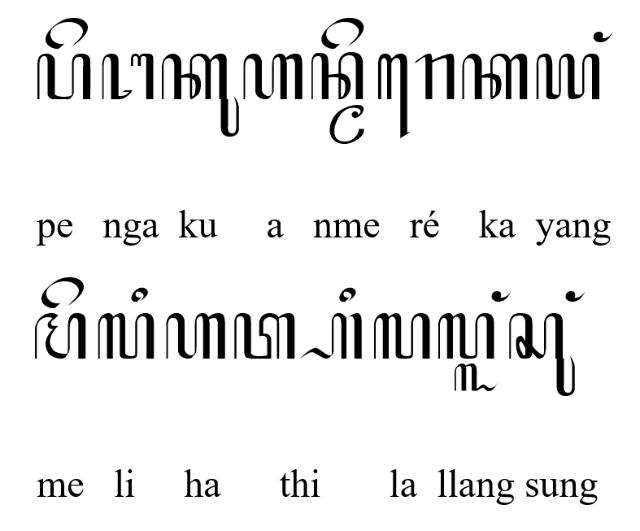_h: (301, 313, 364, 359)
_l: (454, 362, 498, 392)
_m: (328, 103, 364, 144)
e: (38, 276, 86, 310), (45, 16, 89, 50), (321, 16, 365, 50)
e1: (376, 52, 409, 138)
h: (242, 52, 304, 102), (164, 311, 226, 361)
i: (336, 285, 356, 303), (130, 285, 148, 303)
k: (461, 52, 529, 102)
ku: (162, 54, 240, 138)
l: (96, 312, 154, 361), (438, 312, 497, 360), (374, 311, 431, 359)
m: (34, 313, 86, 361)
n: (311, 52, 364, 100)
ng: (592, 30, 614, 44), (564, 290, 586, 302), (491, 290, 511, 302)
nga: (100, 52, 154, 100)
p: (36, 52, 90, 99)
r: (414, 52, 456, 100)
su: (506, 310, 576, 396)
t: (234, 310, 296, 360)
y: (536, 53, 602, 101)
